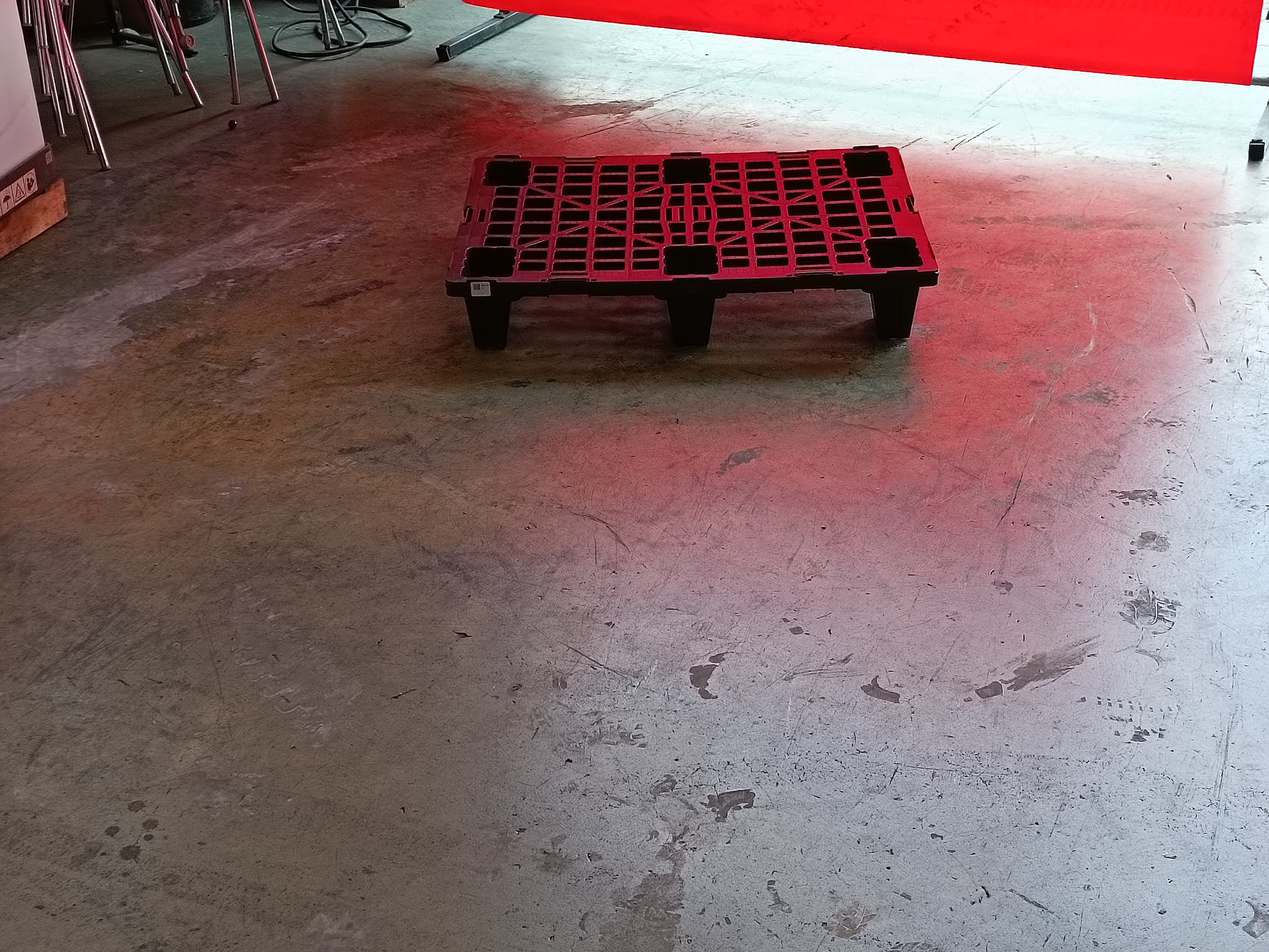block: (463, 298, 513, 359), (869, 283, 921, 341), (669, 290, 712, 353)
front: (447, 268, 954, 360)
hole pallet: (717, 298, 876, 348), (508, 293, 673, 341)
